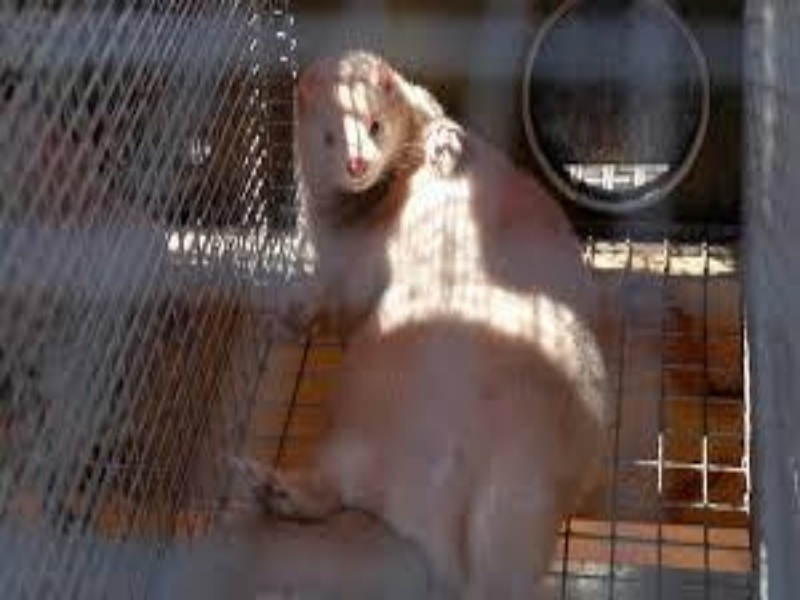minkish: (221, 47, 617, 573)
